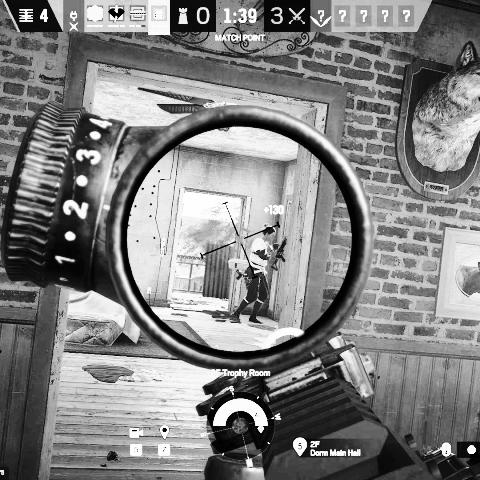Character: (228, 223, 282, 326)
Head: (262, 224, 276, 242)
